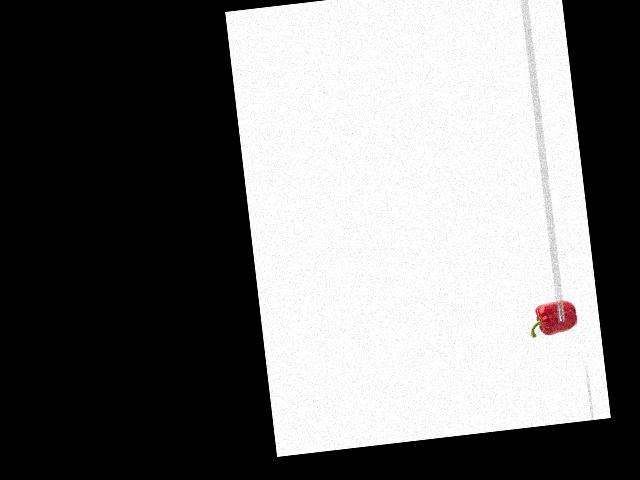bell_pepper: (524, 296, 577, 342)
